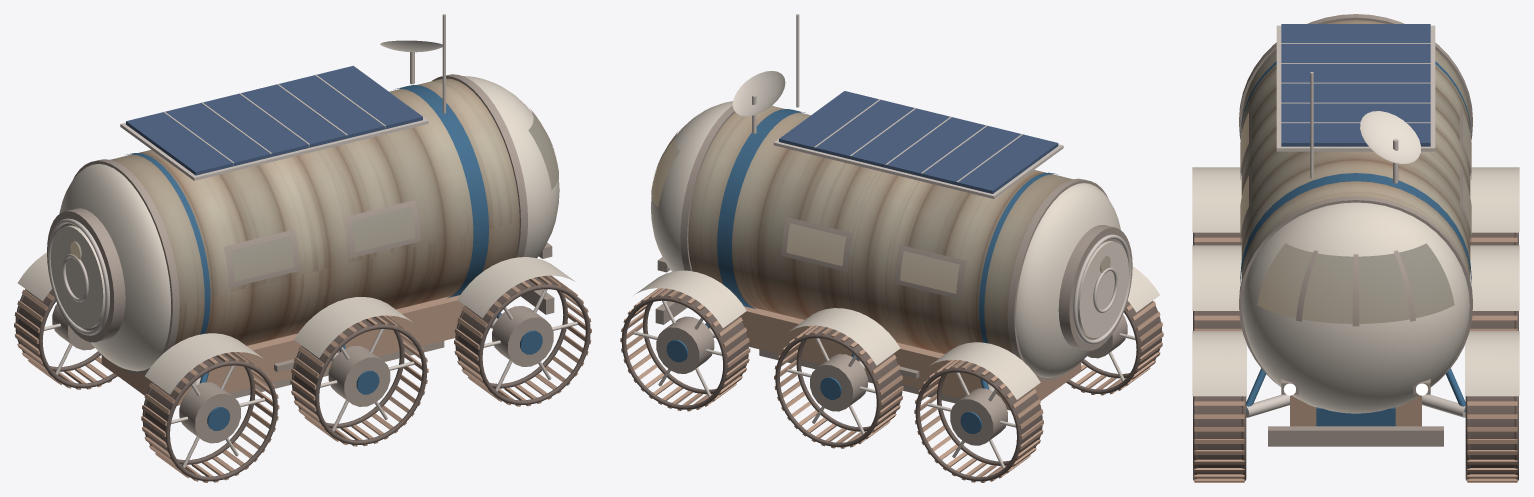
File: V02_pressurized_rover_white_blue.glb
3 views of the same model, side by side, from view 1: azimuth 30°, elevation 25°; view 2: azimuth 150°, elevation 25°; view 3: azimuth 270°, elevation 25° (orthographic). The views are drawn at different scales.
Parts seen in each view (by area): view 1: cabin, roof_solar_panel, rear_dome, fender (×4), tire_edge (×7), hub (×4), chassis, nose, accent_band (×2), tire (×4), ring (×2), side_window (×2) (+7 smaller); view 2: cabin, roof_solar_panel, rear_dome, fender (×4), tire_edge (×7), hub (×4), chassis, accent_band (×2), nose, tire (×4), side_window (×2), ring (×2) (+8 smaller); view 3: nose, fender (×6), cabin, roof_solar_panel, windshield, tire (×6), ring (×2), front_bumper, dish, solar_frame, accent_band, windshield_post (×3) (+5 smaller).
Boxes of the visible parts, x1,y1,x2,y2 form: cabin: [110, 78, 519, 345]; roof_solar_panel: [126, 65, 422, 175]; rear_dome: [59, 164, 171, 371]; fender (×4): [18, 252, 575, 394]; tire_edge (×7): [38, 284, 590, 481]; hub (×4): [52, 303, 553, 443]; chassis: [101, 295, 489, 405]; nose: [463, 76, 559, 258]; accent_band (×2): [126, 85, 488, 334]; tire (×4): [17, 276, 561, 465]; ring (×2): [73, 74, 527, 374]; side_window (×2): [230, 206, 414, 281]; cabin: [688, 106, 1072, 353]; roof_solar_panel: [779, 91, 1058, 193]; rear_dome: [1016, 183, 1120, 377]; fender (×4): [634, 266, 1159, 399]; tire_edge (×7): [621, 296, 1140, 481]; hub (×4): [656, 314, 1127, 445]; chassis: [716, 306, 1081, 410]; accent_band (×2): [717, 109, 1057, 343]; nose: [651, 101, 733, 271]; tire (×4): [655, 288, 1160, 460]; side_window (×2): [786, 223, 959, 293]; ring (×2): [680, 105, 1108, 380]; nose: [1242, 202, 1469, 413]; fender (×6): [1192, 167, 1519, 396]; cabin: [1241, 20, 1470, 279]; roof_solar_panel: [1281, 24, 1430, 146]; windshield: [1257, 243, 1454, 323]; tire (×6): [1197, 232, 1514, 478]; ring (×2): [1239, 14, 1472, 384]; front_bumper: [1268, 426, 1443, 446]; dish: [1360, 111, 1420, 163]; solar_frame: [1276, 25, 1435, 151]; accent_band: [1240, 173, 1471, 283]; windshield_post (×3): [1296, 250, 1415, 326].
Size of the model in its own units: 6.59 by 4.83 by 3.72.
12 materials, 1 textured.
